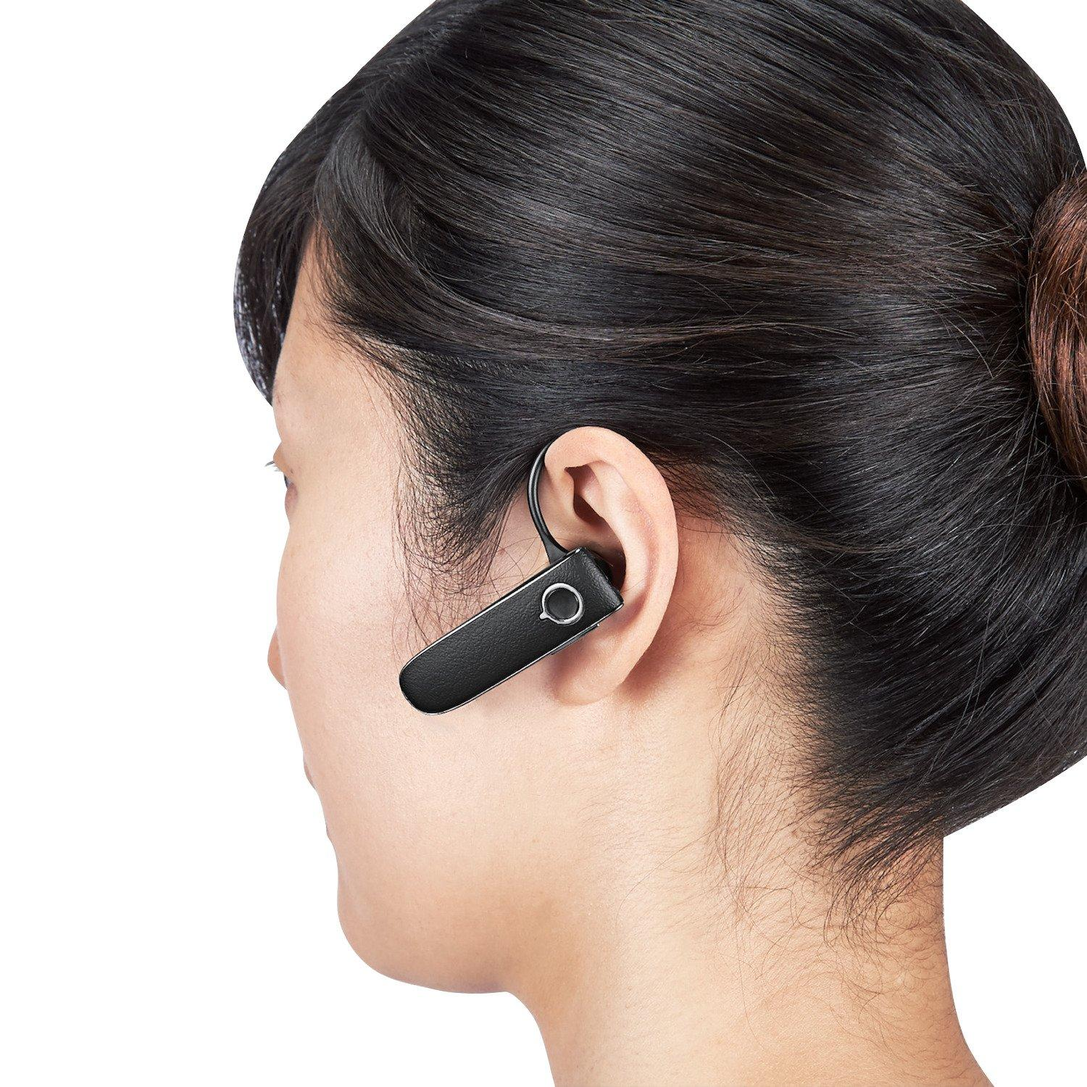earphone: (402, 496, 617, 715)
